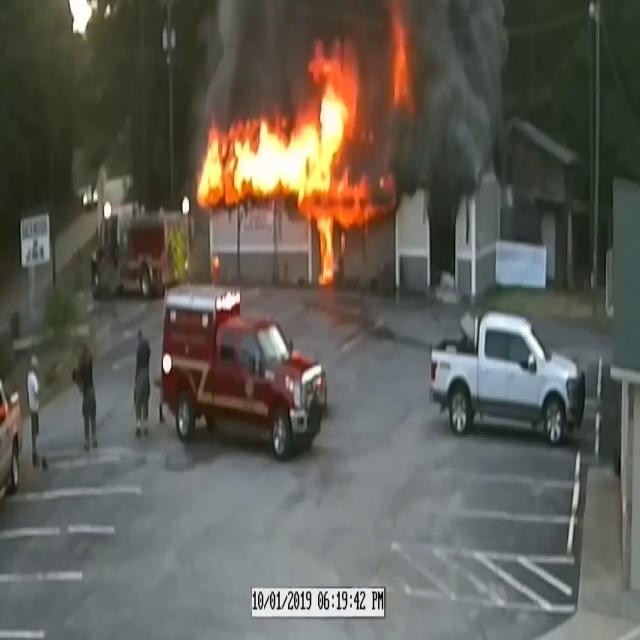Fire: (196, 61, 372, 250)
Smoke: (366, 0, 512, 197)
